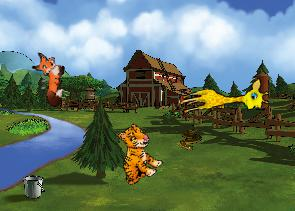fox: (27, 51, 68, 107)
giraffe: (177, 76, 271, 125)
tiger: (101, 120, 169, 190)
